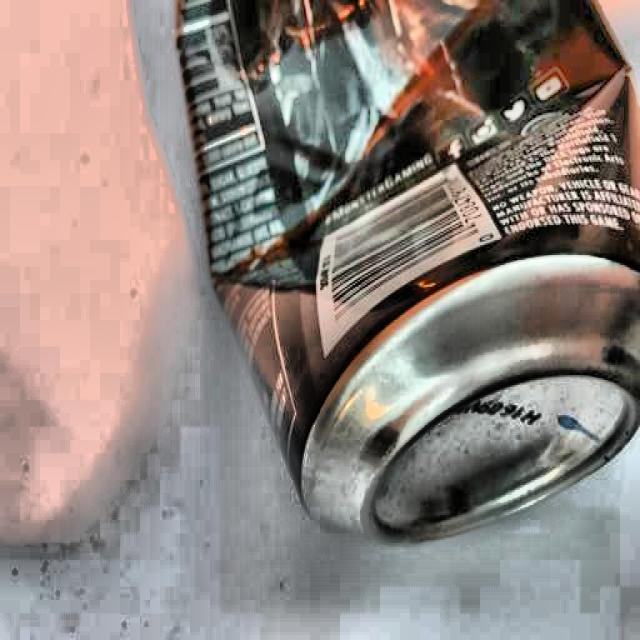metal: (166, 0, 640, 544)
